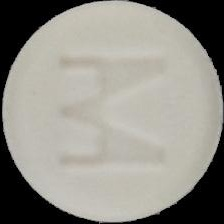52125-353: (0, 0, 224, 224)
